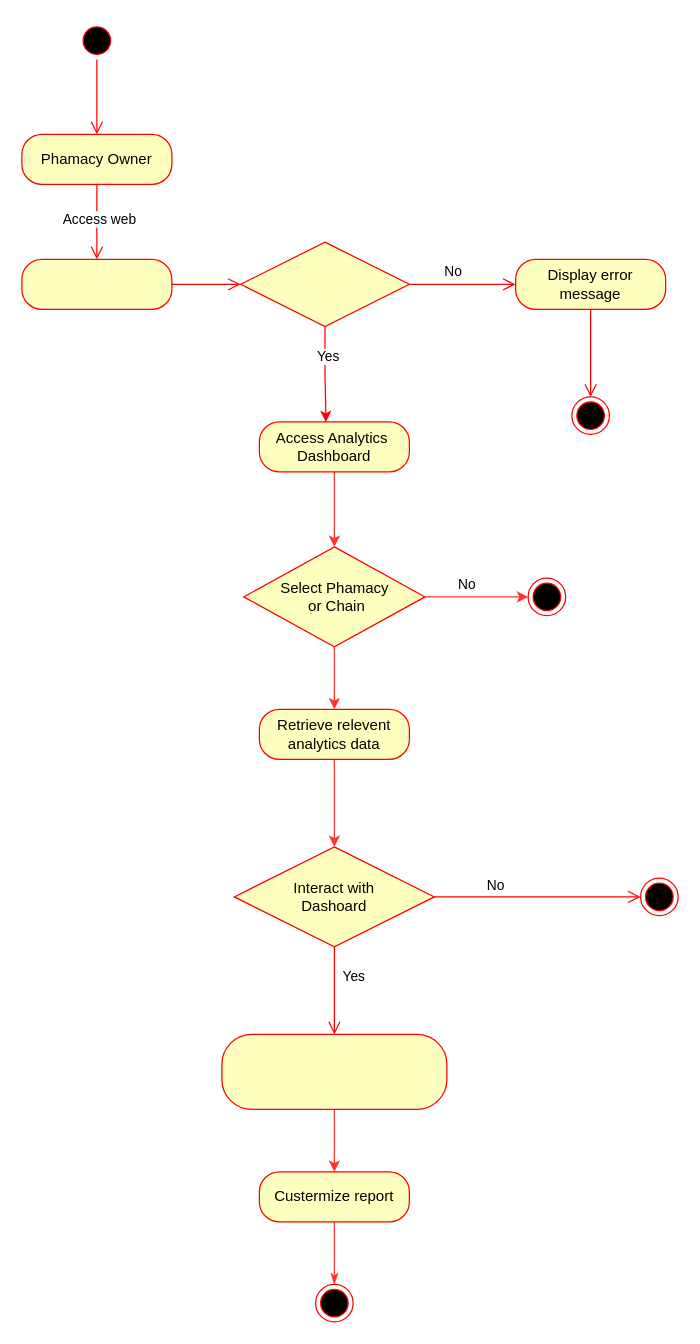
Some shapes in this 700 by 1344 pixel diagram are drawn without their labels. Each missing label, with the centre of its shape:
"Authentication successfull" belongs at (324,283).
"Filter Data" belongs at (334,1071).
"Owner Log with creditial" belongs at (96,283).
